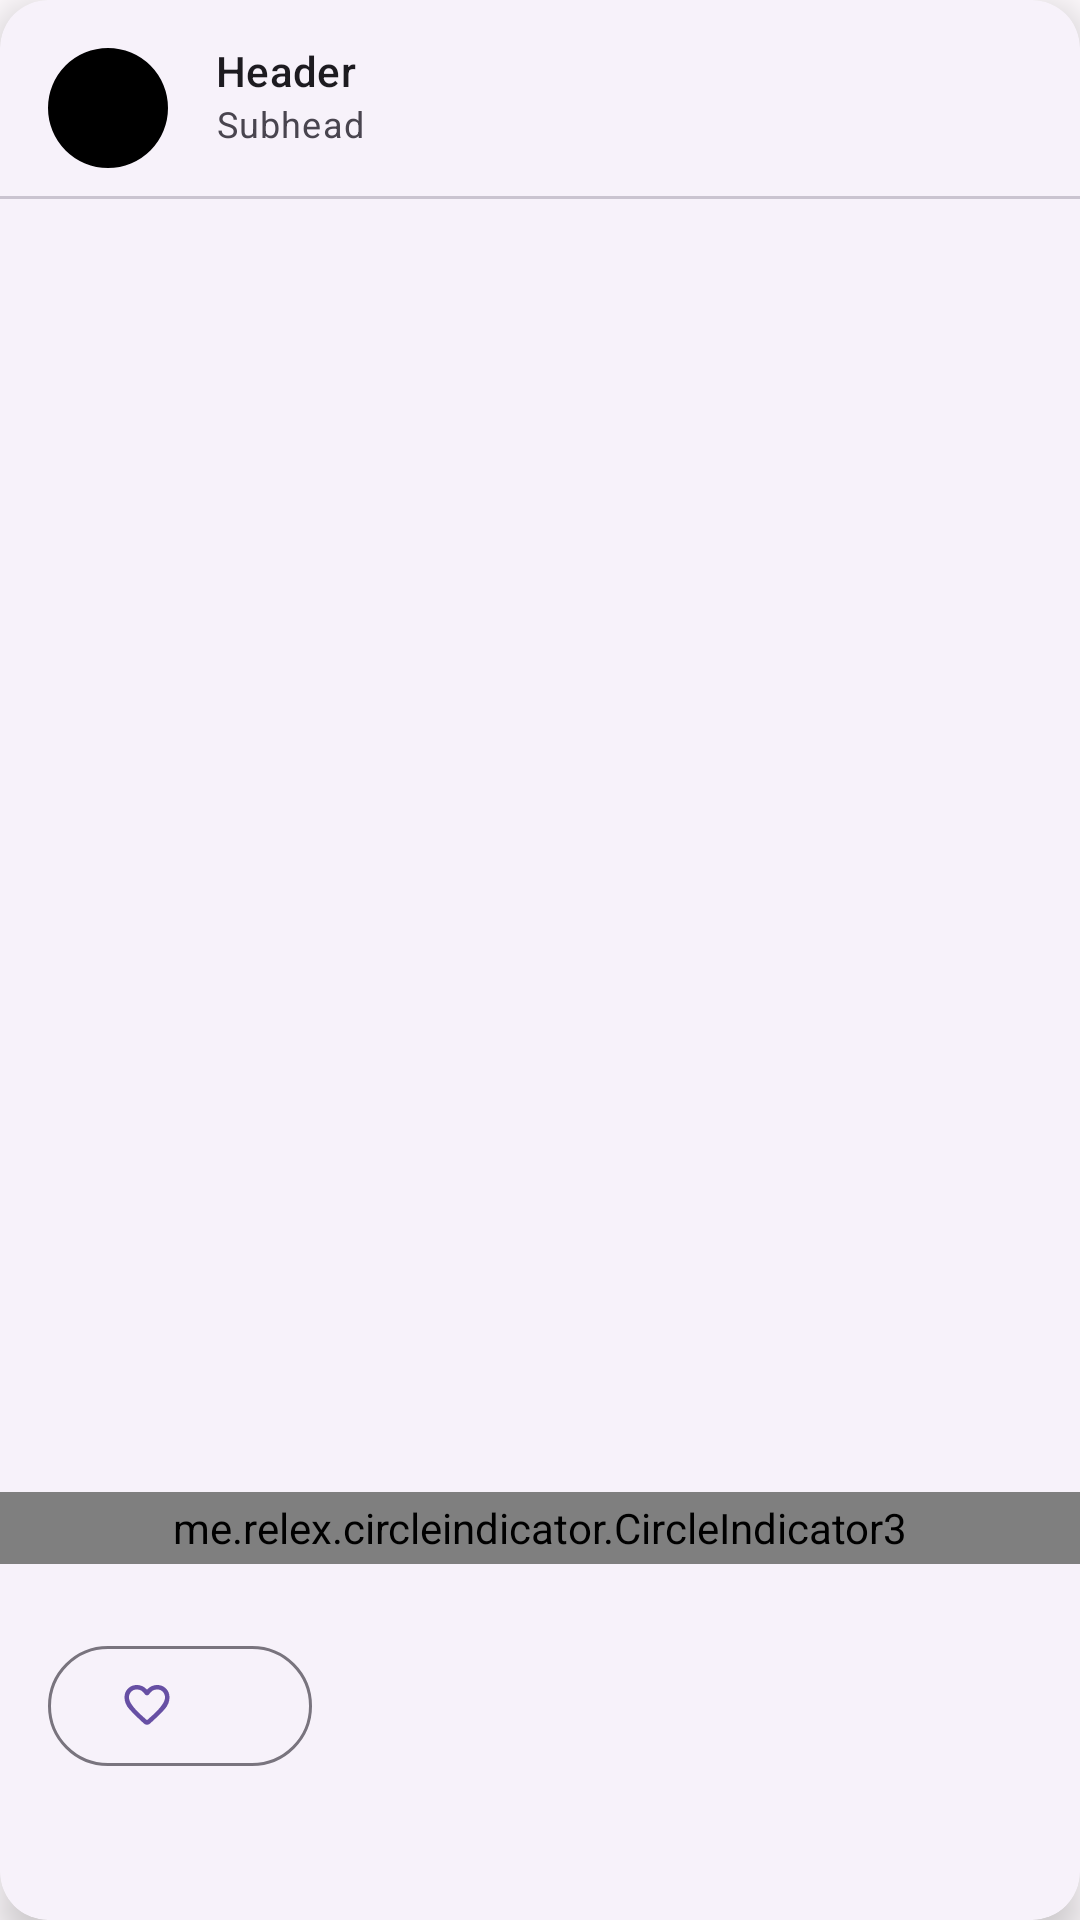

Named icons in this screenshot (1080x1920) and their centers, point (x, y):
favorite: point (180, 1706)
